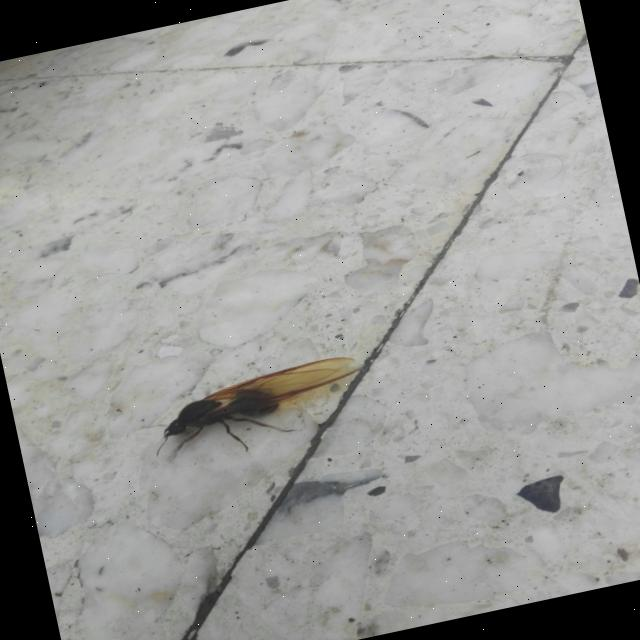Alive-Female-Alate: (135, 352, 372, 472)
